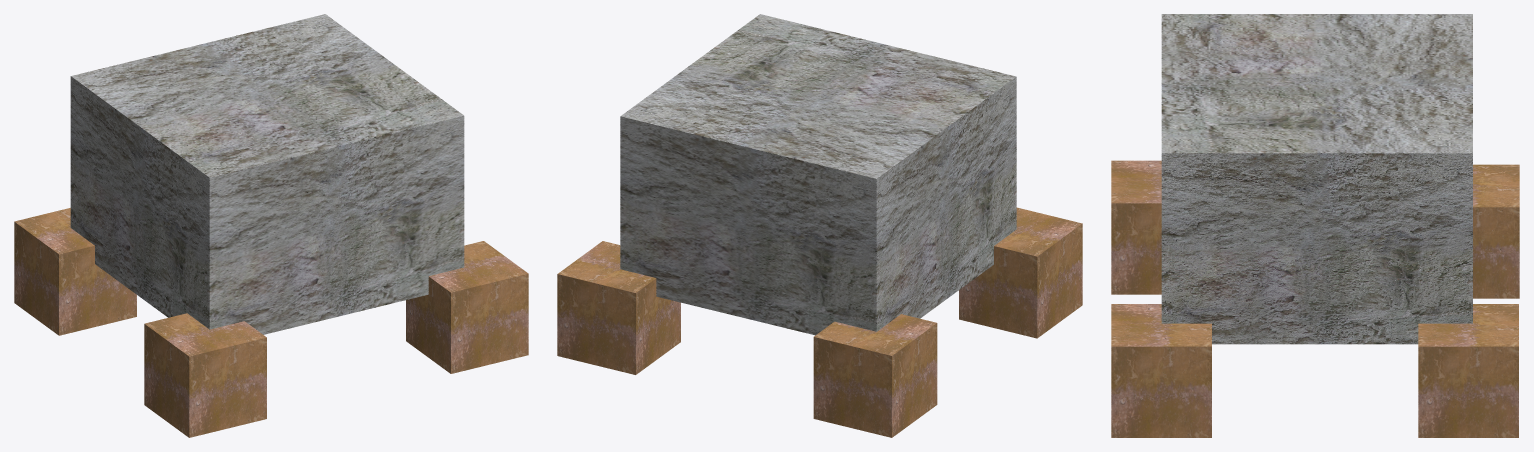
Rendered from enemy00.FBX.
3 views of the same model, side by side, from view 1: azimuth 30°, elevation 25°; view 2: azimuth 150°, elevation 25°; view 3: azimuth 270°, elevation 25° (orthographic). The views are drawn at different scales.
Visible parts, largest first — view 1: Box001, Box005, Box004, Box003; view 2: Box001, Box003, Box002, Box005; view 3: Box001, Box004, Box002, Box005, Box003.
Part boxes in pixels (box(x1,y1,x2,y2)): Box001: box(70, 14, 464, 334); Box005: box(144, 313, 266, 437); Box004: box(406, 241, 528, 373); Box003: box(14, 208, 136, 335); Box001: box(620, 14, 1016, 335); Box003: box(813, 314, 937, 437); Box002: box(557, 241, 680, 374); Box005: box(959, 207, 1082, 338); Box001: box(1161, 14, 1472, 344); Box004: box(1111, 304, 1211, 437); Box002: box(1418, 304, 1518, 437); Box005: box(1111, 160, 1161, 294); Box003: box(1473, 164, 1519, 298).
Size of the model in its own units: 94.12 by 87.43 by 61.79.
